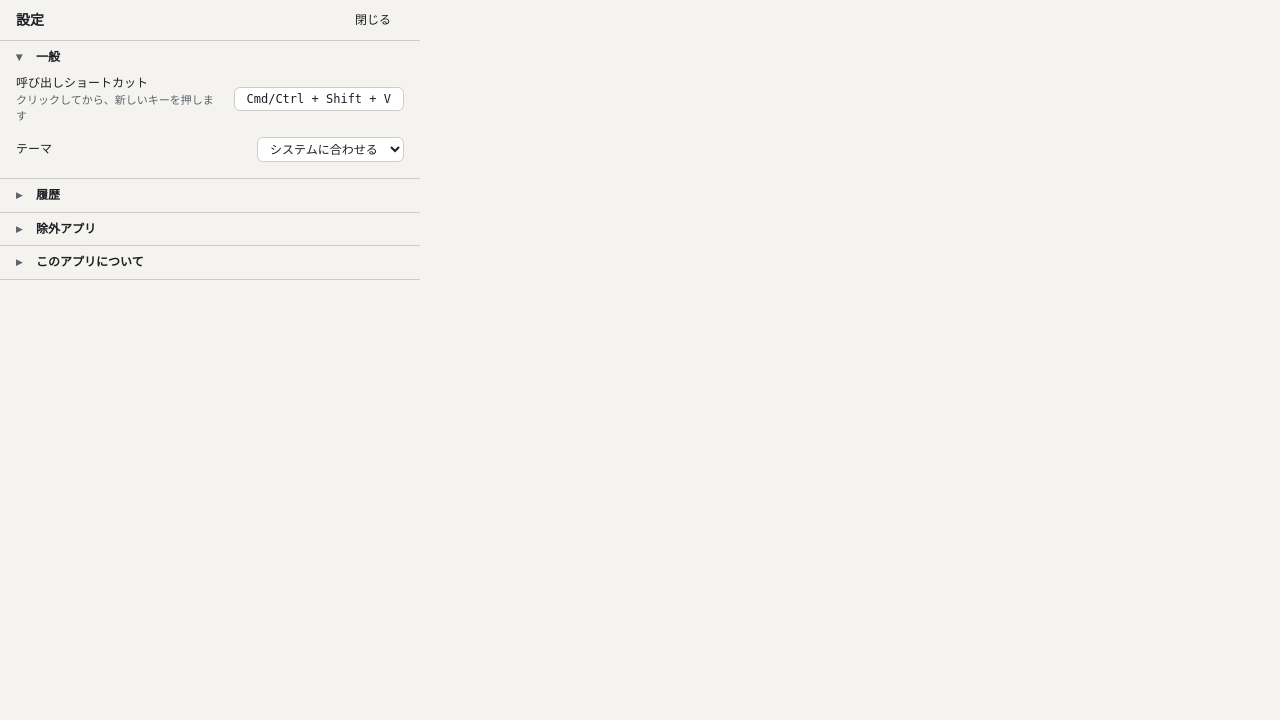
Test case: SettingsWindow › 履歴の上限 › 上限を下げて古い履歴が削除されるとき、確認を出し、キャンセルすると保存しない
Click the button "▸ 履歴": (19, 194) x1=0 y1=179 x2=420 y2=212
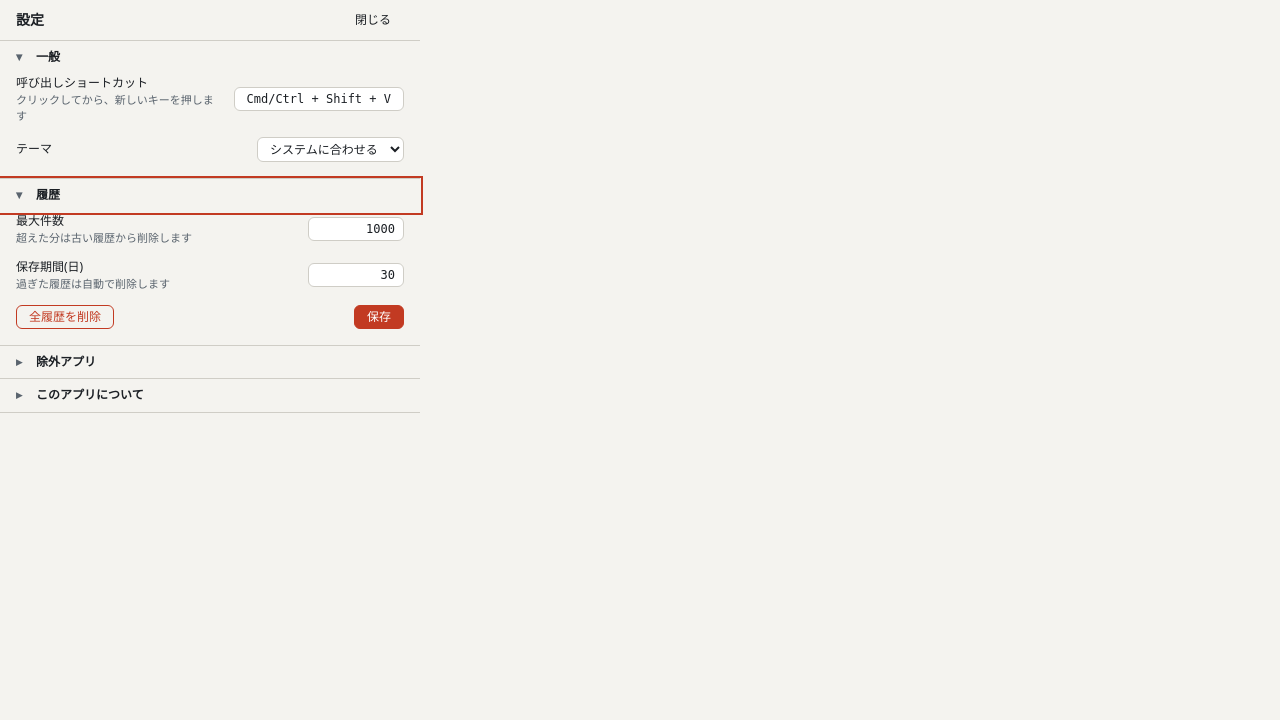
Replace the text in the field labelled "最大件数" with "10": (356, 229) x1=308 y1=217 x2=404 y2=241
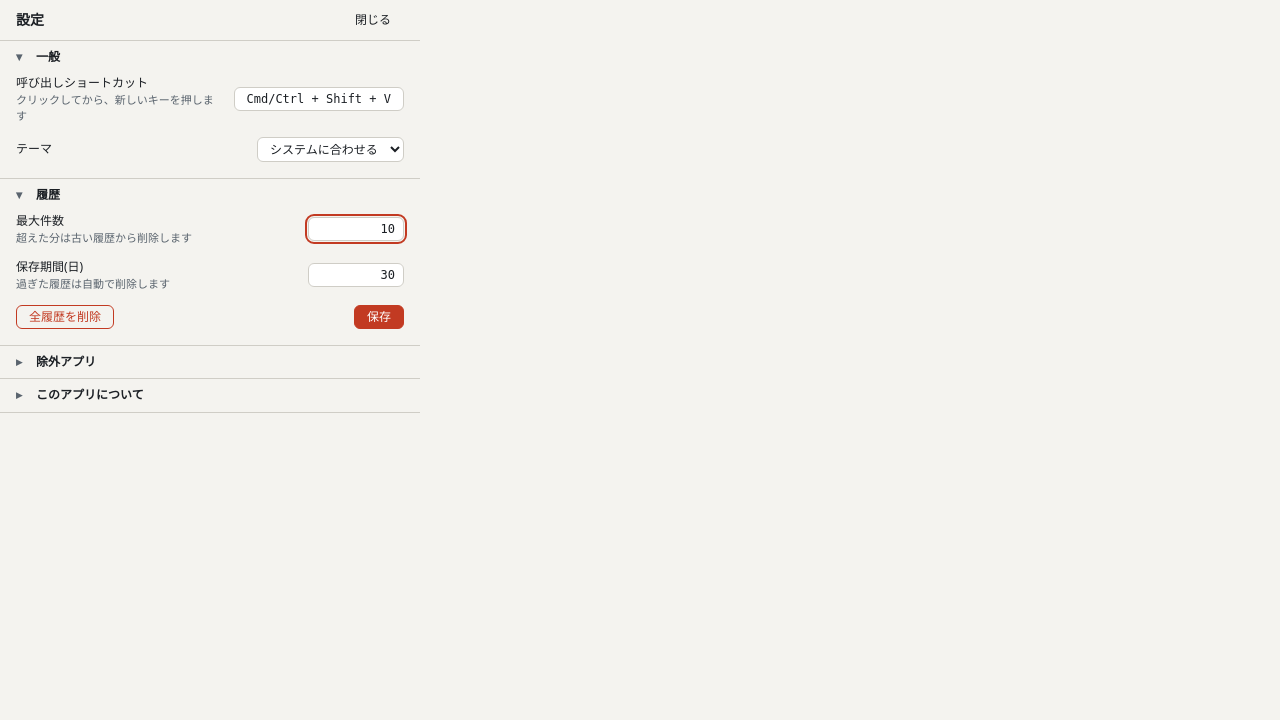
Click the button "保存": (379, 317) x1=354 y1=305 x2=404 y2=329
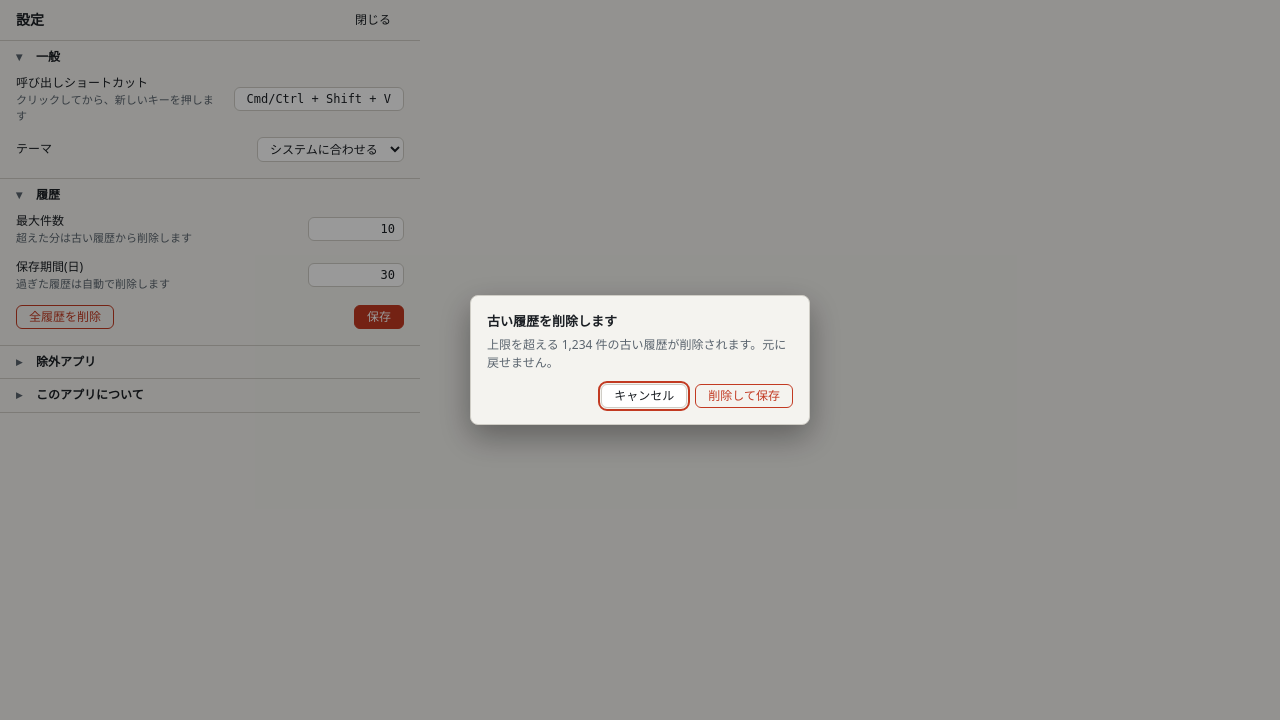
Check: the dialog shows "1,234", box x1=487 y1=336 x2=786 y2=371
Click the button "キャンセル": (644, 396) x1=601 y1=384 x2=687 y2=408
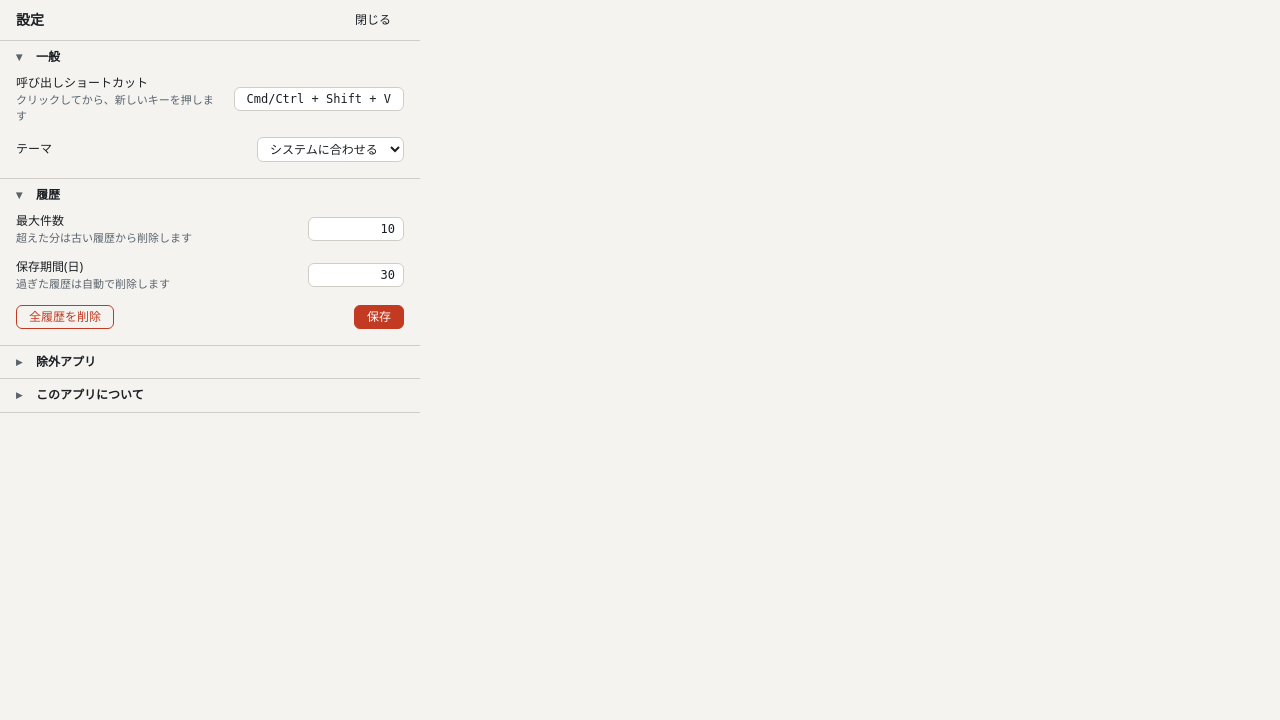
Check: the dialog is gone
